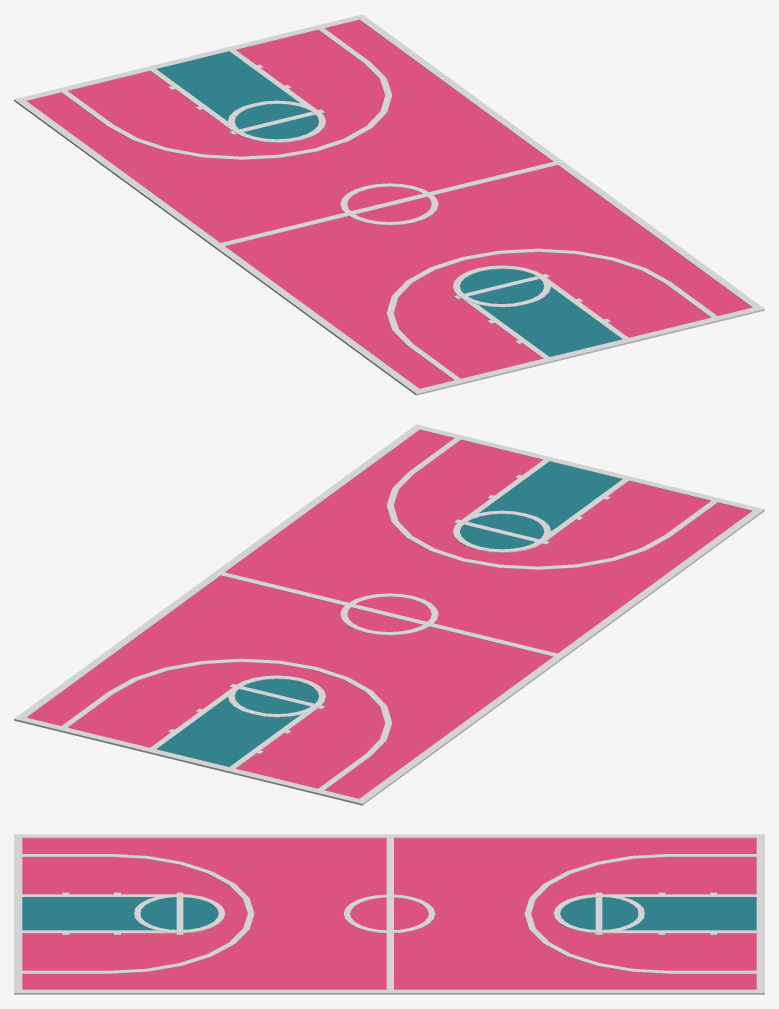
The model's file is Basketball_Court_5.fbx.
3 renders of one model, top to bottom at view 1: azimuth 30°, elevation 25°; view 2: azimuth 150°, elevation 25°; view 3: azimuth 270°, elevation 25°, orthographic. The views are drawn at different scales.
Visible parts, largest first — view 1: Basketball_Court_5; view 2: Basketball_Court_5; view 3: Basketball_Court_5.
Part boxes in pixels (x1,y1,x2,y2): Basketball_Court_5: (14, 14, 764, 395); Basketball_Court_5: (14, 424, 764, 805); Basketball_Court_5: (14, 834, 764, 994).
Bounding box in the file's own units: 800 × 4.45 × 1600.
